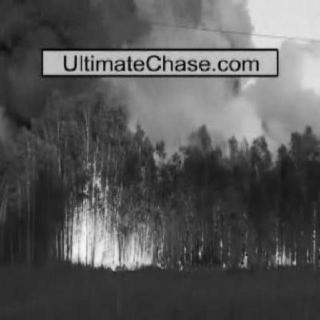Smoke: (1, 0, 244, 44)
